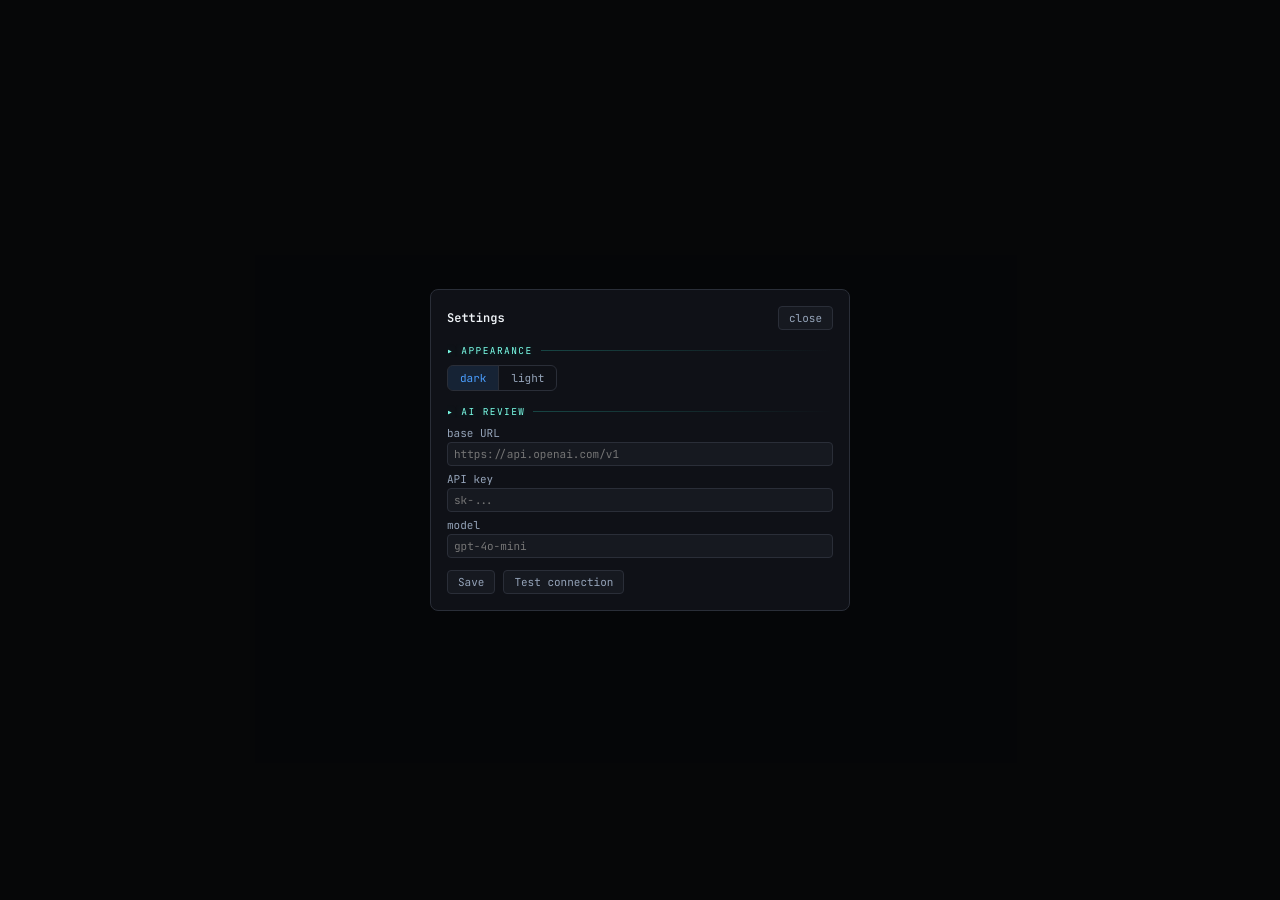
it: SettingsModal › test connection surfaces ping success and failure
Click the button "Test connection" at [564, 582], box [503,570,624,594]
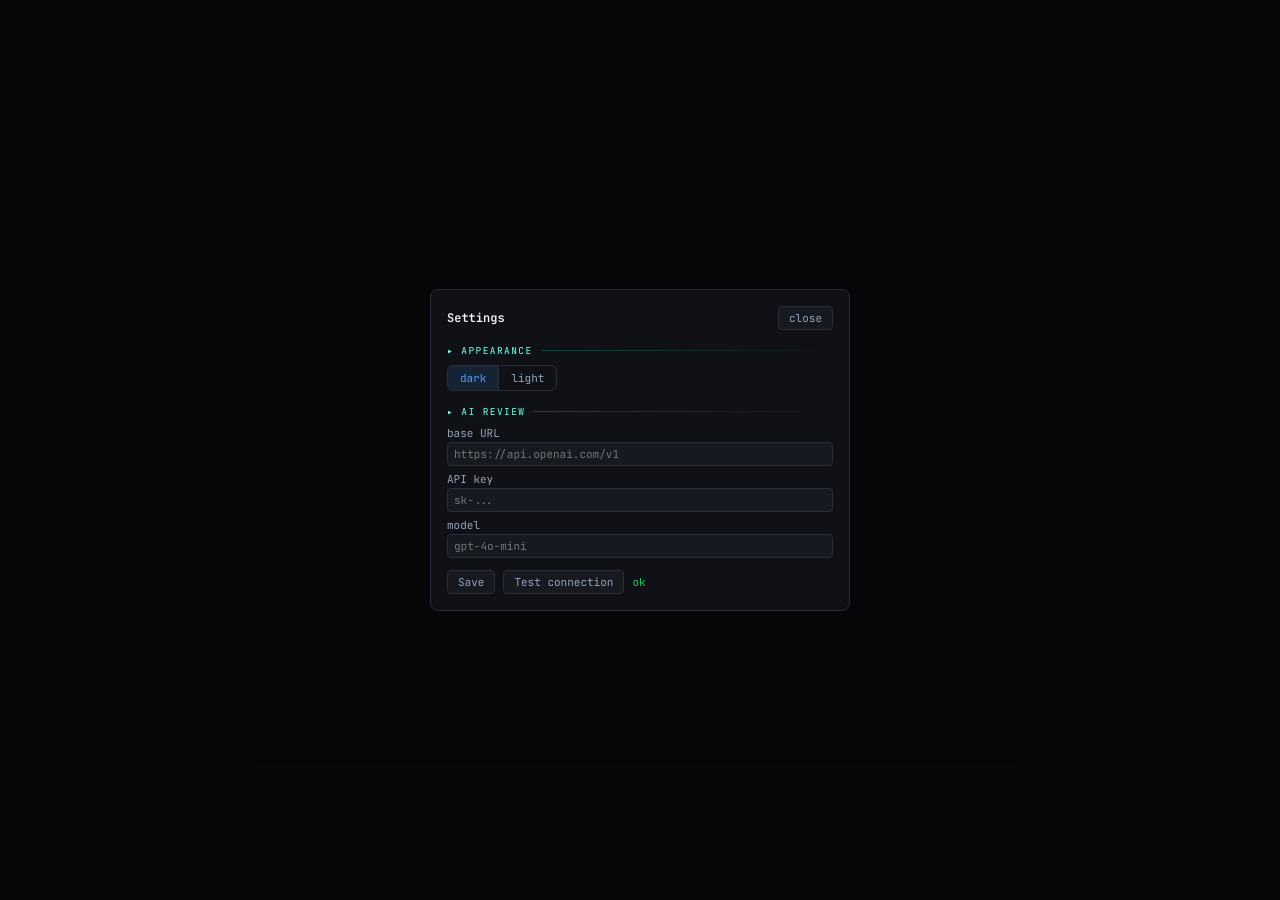
Expected: the text "ok" is shown, [632,575,646,589]
Click the button "Test connection" at [564, 582], box [503,570,624,594]
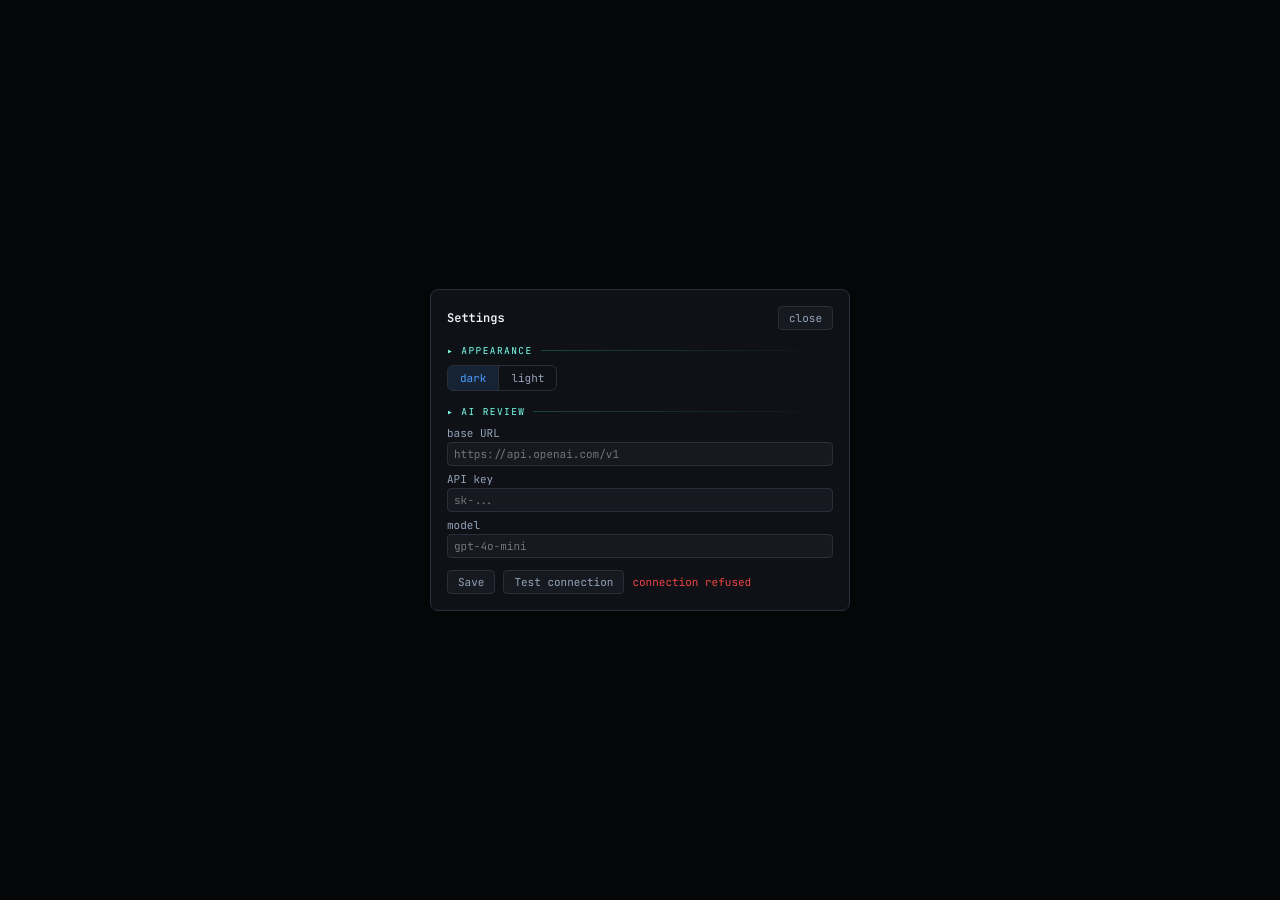
Expected: the text "connection refused" is shown, [632,575,751,589]
